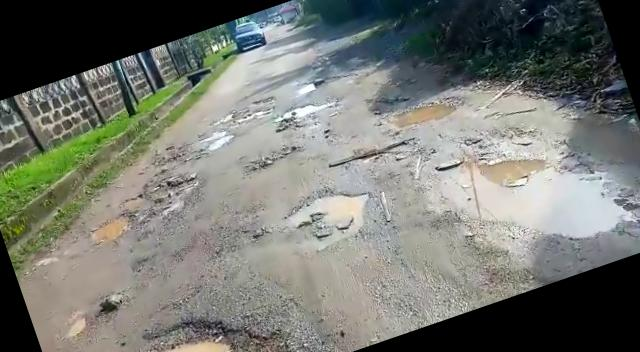pothole: (424, 113, 640, 286), (54, 281, 316, 352), (279, 178, 375, 252), (374, 82, 466, 138), (115, 167, 204, 224), (329, 132, 418, 176), (240, 140, 303, 175), (274, 94, 338, 126), (216, 97, 277, 130), (89, 209, 140, 246), (188, 128, 239, 158)
